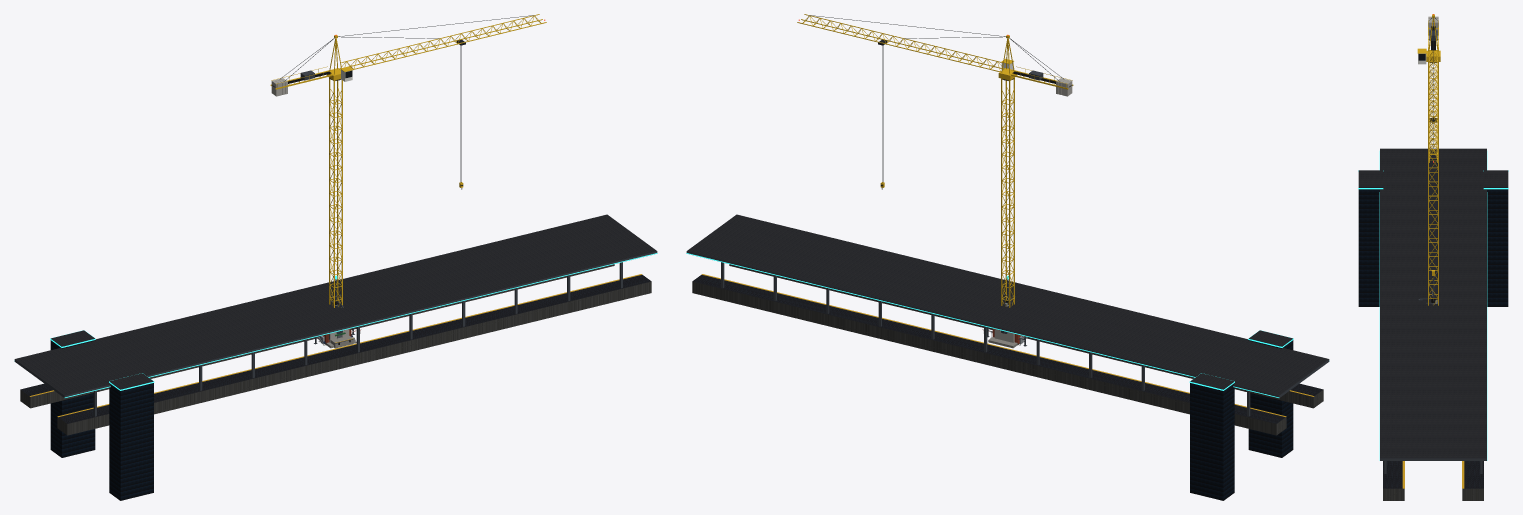
Rendered from nexus_city_kit.glb.
3 views of the same model, side by side, from view 1: azimuth 30°, elevation 25°; view 2: azimuth 150°, elevation 25°; view 3: azimuth 270°, elevation 25° (orthographic). The views are drawn at different scales.
Visible parts, largest first — view 1: NCK_station, NCK_crane; view 2: NCK_station, NCK_crane; view 3: NCK_station, NCK_crane.
Boxes of the visible parts, box(x1,y1,x2,y2) form: NCK_station: box(14, 214, 657, 500); NCK_crane: box(270, 14, 546, 348); NCK_station: box(686, 214, 1329, 500); NCK_crane: box(797, 14, 1073, 348); NCK_station: box(1358, 148, 1508, 500); NCK_crane: box(1417, 14, 1440, 305).
Size of the model in its own units: 142 by 86.85 by 29.1.
104 materials, 17 textured.
